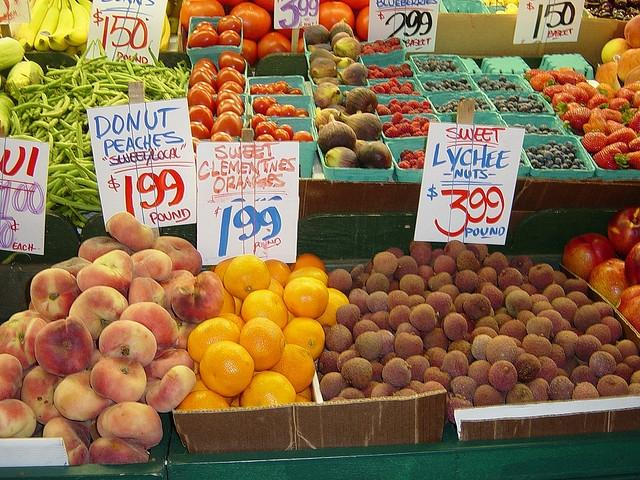apple: (562, 234, 616, 283), (589, 258, 629, 307), (607, 206, 640, 258), (616, 286, 640, 334), (625, 242, 640, 287)
banana: (17, 0, 49, 47), (33, 1, 60, 52), (48, 0, 74, 51), (64, 0, 90, 46), (159, 12, 171, 52)
blueberry: (564, 142, 575, 152), (528, 146, 538, 155), (552, 157, 562, 166), (562, 159, 573, 167), (554, 150, 563, 159), (488, 80, 497, 88), (528, 127, 538, 134), (444, 82, 452, 90), (478, 100, 486, 108), (458, 78, 468, 84), (430, 63, 437, 71), (444, 61, 451, 68), (446, 104, 454, 110), (525, 124, 531, 131), (544, 145, 552, 150), (436, 81, 444, 86), (550, 164, 560, 168), (518, 98, 524, 104), (514, 101, 520, 107), (453, 106, 458, 112), (499, 82, 504, 88), (444, 79, 451, 83), (579, 164, 585, 168), (505, 81, 511, 85), (438, 62, 442, 66), (518, 103, 522, 107)
green bean: (65, 177, 101, 206), (38, 92, 70, 118), (50, 135, 76, 165), (68, 147, 90, 180), (63, 143, 92, 163), (152, 76, 176, 96), (9, 102, 55, 111), (68, 178, 98, 191), (35, 78, 61, 92), (76, 119, 85, 158), (20, 84, 54, 94), (82, 55, 106, 66), (58, 117, 76, 131), (72, 188, 99, 197), (112, 72, 142, 80), (60, 130, 76, 144), (71, 84, 92, 93), (142, 67, 168, 74), (54, 131, 70, 142), (40, 92, 48, 113), (146, 85, 166, 93), (90, 61, 107, 70), (51, 174, 75, 180), (72, 180, 88, 189), (48, 118, 58, 132), (86, 73, 101, 82), (72, 218, 85, 228), (18, 97, 25, 115), (100, 84, 128, 88), (105, 61, 126, 66), (78, 112, 87, 122), (54, 206, 68, 212), (114, 79, 135, 83), (138, 63, 154, 68), (176, 71, 182, 82), (64, 65, 76, 70), (22, 122, 27, 134), (60, 114, 68, 120), (46, 116, 52, 124), (92, 93, 97, 102), (57, 88, 63, 95), (74, 98, 78, 106), (110, 96, 113, 100), (132, 65, 135, 68)
peach: (34, 316, 94, 377), (119, 302, 179, 358), (54, 370, 118, 421), (69, 286, 129, 340), (98, 402, 162, 450), (171, 271, 224, 324), (90, 356, 148, 404), (98, 320, 157, 366), (30, 268, 82, 320), (22, 365, 66, 425), (0, 317, 48, 370), (42, 416, 90, 466), (145, 366, 197, 412), (150, 235, 202, 277), (105, 212, 154, 252), (76, 264, 127, 300), (88, 437, 150, 465), (78, 236, 132, 264), (156, 269, 194, 308), (0, 398, 36, 438), (130, 249, 172, 282), (128, 276, 166, 309), (151, 349, 194, 378), (0, 353, 22, 401), (51, 257, 93, 279), (174, 318, 198, 352), (8, 310, 52, 324)
strawberry: (592, 147, 630, 170), (562, 107, 592, 132), (562, 82, 590, 107), (582, 130, 608, 154), (582, 114, 610, 136), (606, 128, 638, 146), (530, 73, 560, 92), (558, 70, 589, 86), (554, 101, 580, 120), (540, 84, 564, 104), (552, 92, 576, 112), (622, 109, 640, 133), (576, 82, 600, 99), (523, 68, 549, 82), (588, 94, 608, 110), (596, 83, 616, 99), (604, 142, 630, 154), (625, 150, 640, 170), (609, 97, 631, 110), (606, 120, 625, 135), (615, 88, 634, 103), (622, 80, 640, 92), (628, 136, 640, 152), (633, 90, 639, 108)
tomato: (228, 2, 272, 42), (180, 1, 225, 34), (319, 1, 355, 32), (258, 31, 292, 63), (187, 86, 216, 116), (210, 111, 243, 137), (216, 66, 246, 92), (190, 67, 218, 94), (189, 104, 214, 134), (215, 89, 245, 112), (218, 51, 245, 74), (217, 0, 251, 16), (188, 31, 218, 48), (240, 38, 258, 66), (217, 15, 242, 35), (217, 99, 243, 117), (356, 5, 369, 40), (192, 59, 218, 76), (217, 30, 241, 47), (190, 122, 212, 139), (340, 0, 370, 12), (189, 81, 216, 94), (218, 81, 244, 94), (252, 97, 270, 115), (255, 122, 273, 138), (193, 21, 217, 33), (252, 0, 274, 12), (210, 131, 236, 141), (278, 124, 294, 140), (252, 114, 268, 130), (292, 130, 314, 141), (272, 128, 290, 140), (276, 28, 292, 40), (192, 136, 202, 154), (250, 84, 266, 95), (266, 106, 282, 116), (280, 107, 296, 117), (274, 83, 289, 93), (256, 134, 275, 140), (297, 37, 304, 53), (266, 121, 278, 130), (296, 108, 309, 116), (288, 88, 304, 94), (266, 86, 275, 94), (298, 114, 308, 116)
